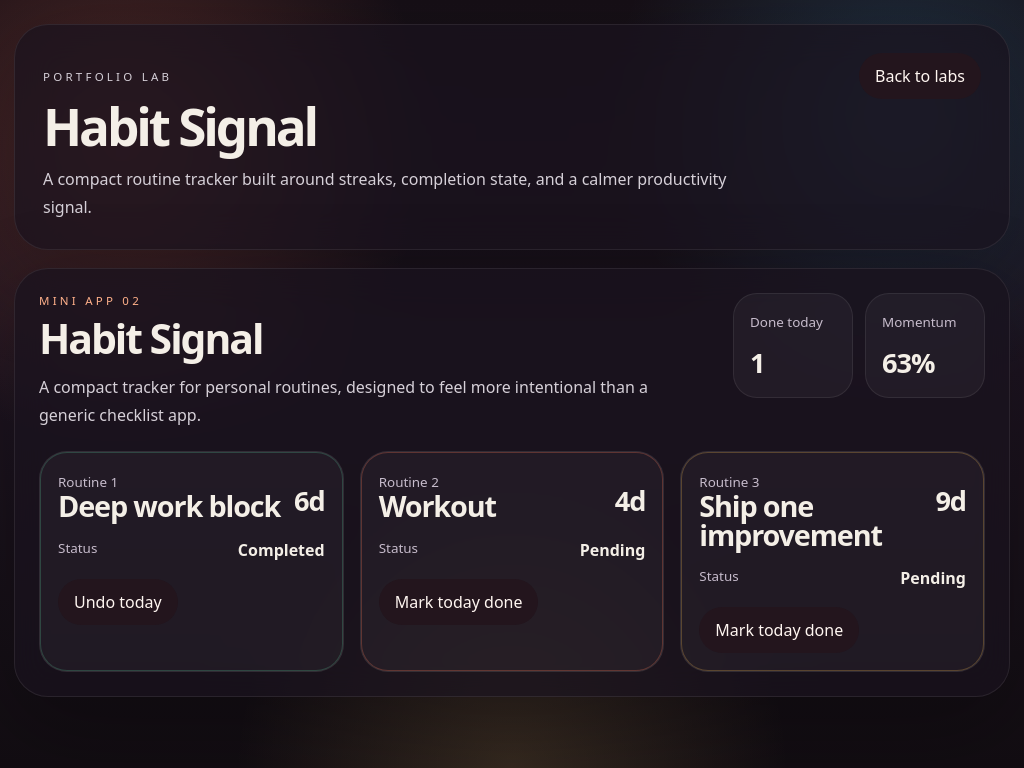
Scenario: Portfolio Labs app › updates habit status and streak after marking a routine as done
Expected: the text "Pending" below "Workout" is shown, top-left (580, 538), bottom-right (645, 560)
Expected: the text "4d" is shown, top-left (615, 482), bottom-right (645, 519)
Click the button "Mark today done" below "Workout".
click(459, 602)  # box top-left (379, 578), bottom-right (538, 624)
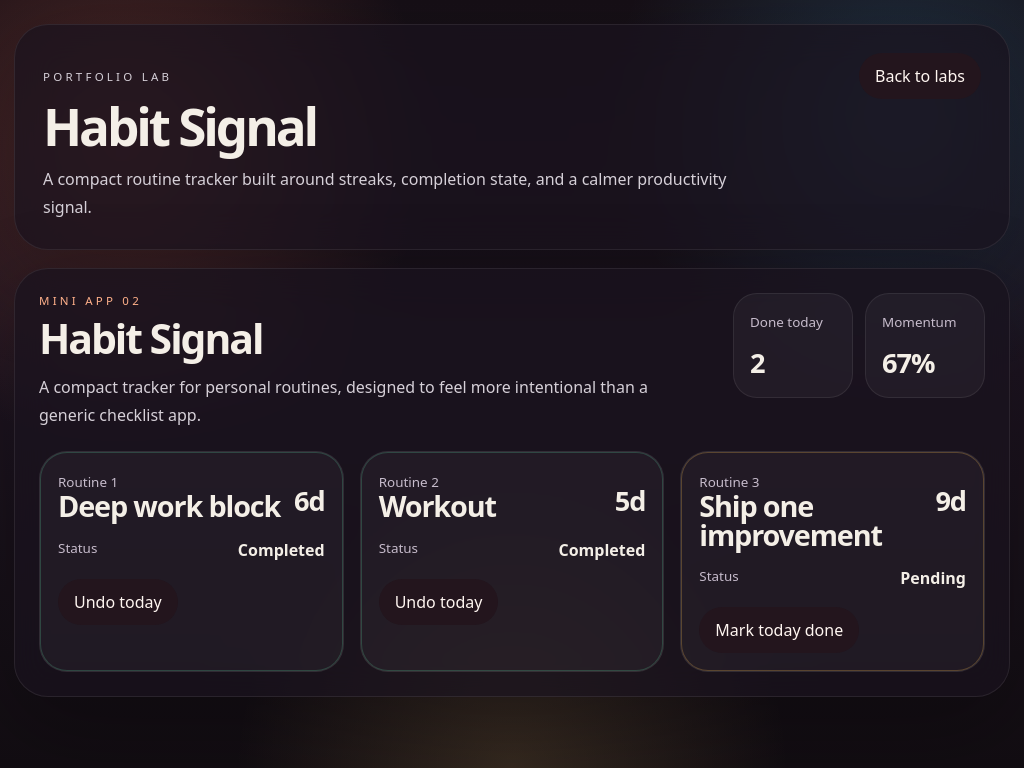
Expected: the text "Completed" below "Deep work block" is shown, top-left (238, 538), bottom-right (325, 560)
Expected: the text "5d" is shown, top-left (615, 482), bottom-right (645, 519)
